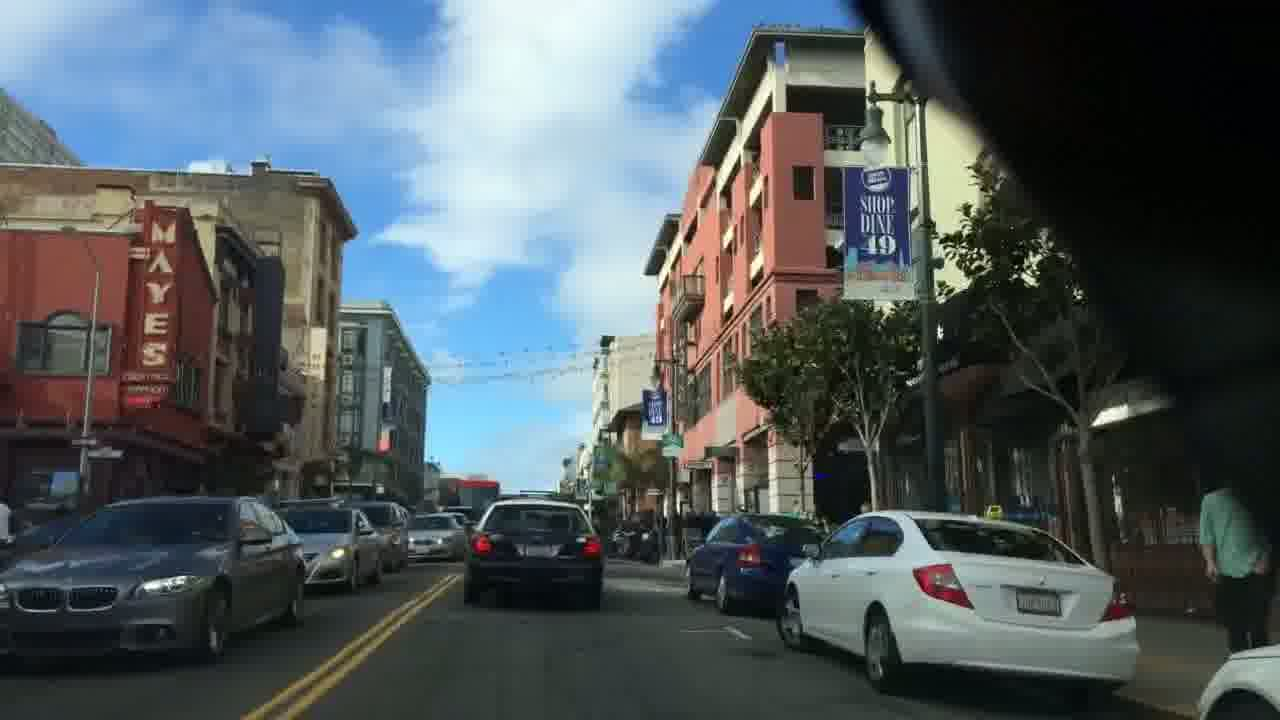car: (777, 508, 1139, 708), (1, 494, 306, 668), (462, 497, 603, 611), (684, 513, 827, 615), (279, 504, 385, 591), (404, 511, 463, 562)
pedestrian: (1198, 481, 1274, 653)
